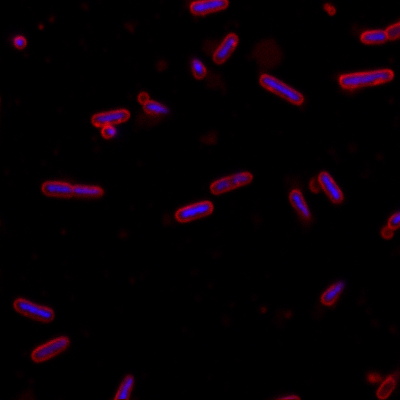Oblique: (288, 189, 313, 227), (318, 278, 348, 307), (141, 98, 177, 116), (187, 57, 209, 81), (99, 122, 118, 141), (12, 33, 28, 50)
Rifampicin: (257, 70, 306, 105), (38, 178, 104, 200), (337, 67, 395, 91), (208, 169, 256, 197), (12, 294, 56, 323), (172, 197, 216, 224), (29, 334, 71, 362), (211, 31, 238, 66), (317, 171, 344, 205), (89, 106, 131, 127)
Vesicle: (322, 0, 339, 16), (134, 89, 150, 105), (255, 301, 269, 317), (280, 309, 296, 323)
